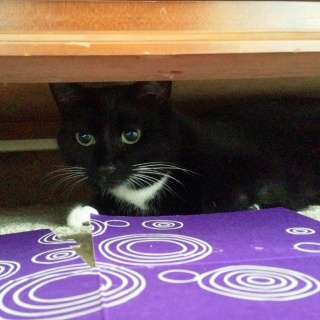Cat: (47, 80, 319, 228)
